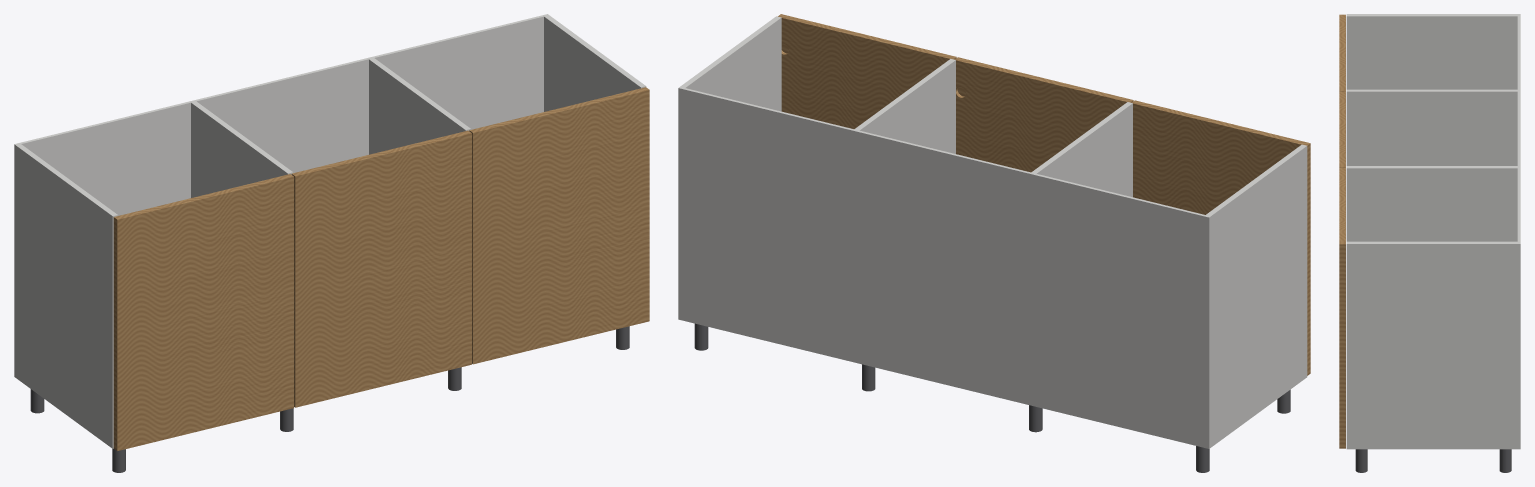
Rendered from w1800_none_default_closed.glb.
3 renders of one model, left to right at view 1: azimuth 30°, elevation 25°; view 2: azimuth 150°, elevation 25°; view 3: azimuth 270°, elevation 25°, orthographic. The views are drawn at different scales.
Parts seen in each view (by area): view 1: oak, white, leg; view 2: white, oak, leg; view 3: white, oak, leg.
Boxes of the visible parts, x1,y1,x2,y2 form: oak: [113, 87, 649, 450]; white: [14, 14, 646, 448]; leg: [30, 326, 629, 472]; white: [678, 16, 1307, 448]; oak: [778, 14, 1310, 375]; leg: [694, 323, 1290, 472]; white: [1346, 14, 1520, 449]; oak: [1339, 14, 1345, 448]; leg: [1355, 449, 1511, 472].
Size of the model in its own units: 1.8 by 0.85 by 0.6.
3 materials, 1 textured.
